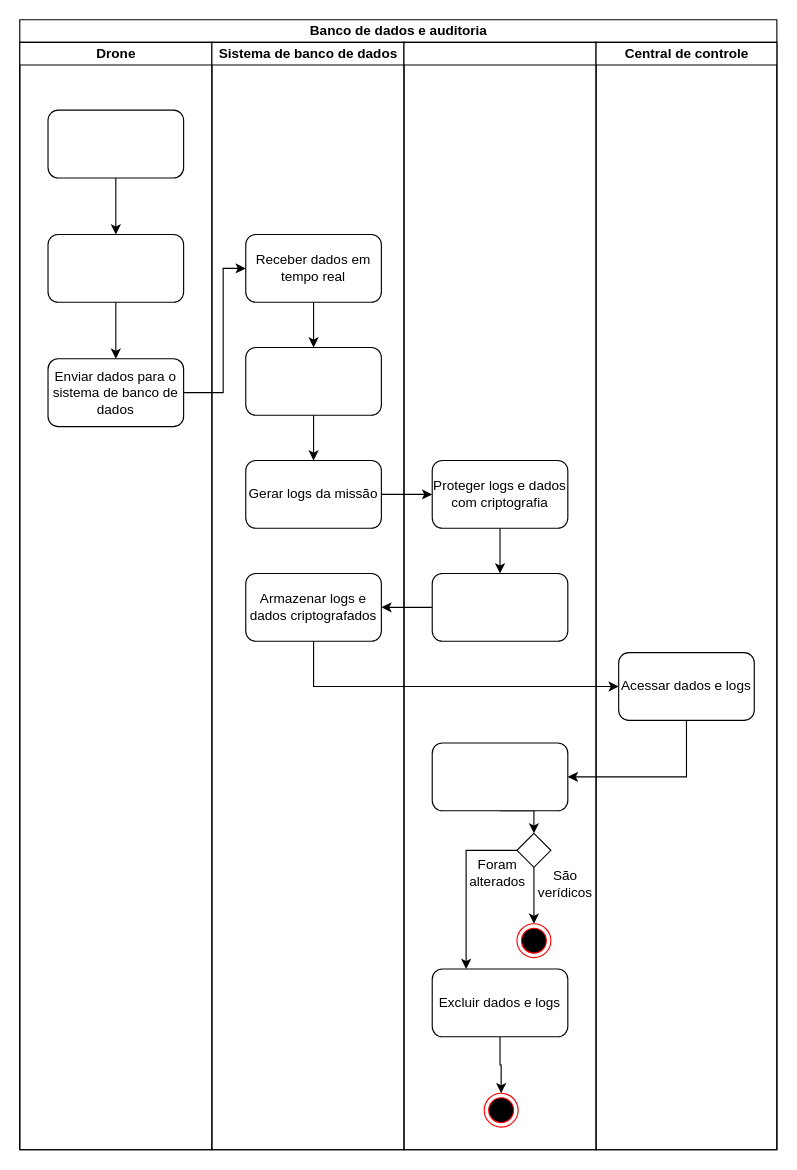
This 797x1170 diagram has some shape labels left out. Here are the shapes that lost their labels. From the top down, the box of each, then its label:
(47, 109, 184, 178): Iniciar missão
(47, 233, 184, 302): Armazenar dados da missão
(245, 346, 381, 415): Armazenar dados em tempo real
(403, 41, 596, 1150): Sistema de auditoria
(431, 572, 568, 641): Adicionar assinaturas digitais
(431, 742, 568, 811): Verificar autenticidade dos dados e logs
